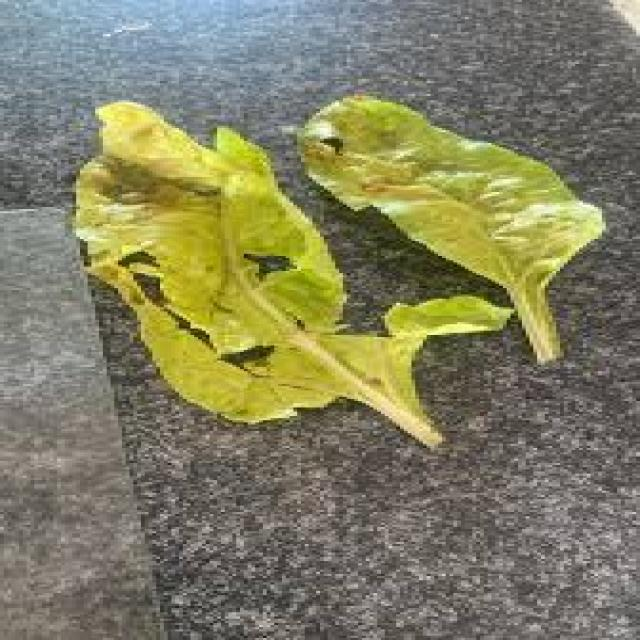rotten spinach: (54, 71, 640, 453), (59, 94, 449, 447), (303, 78, 621, 362)
